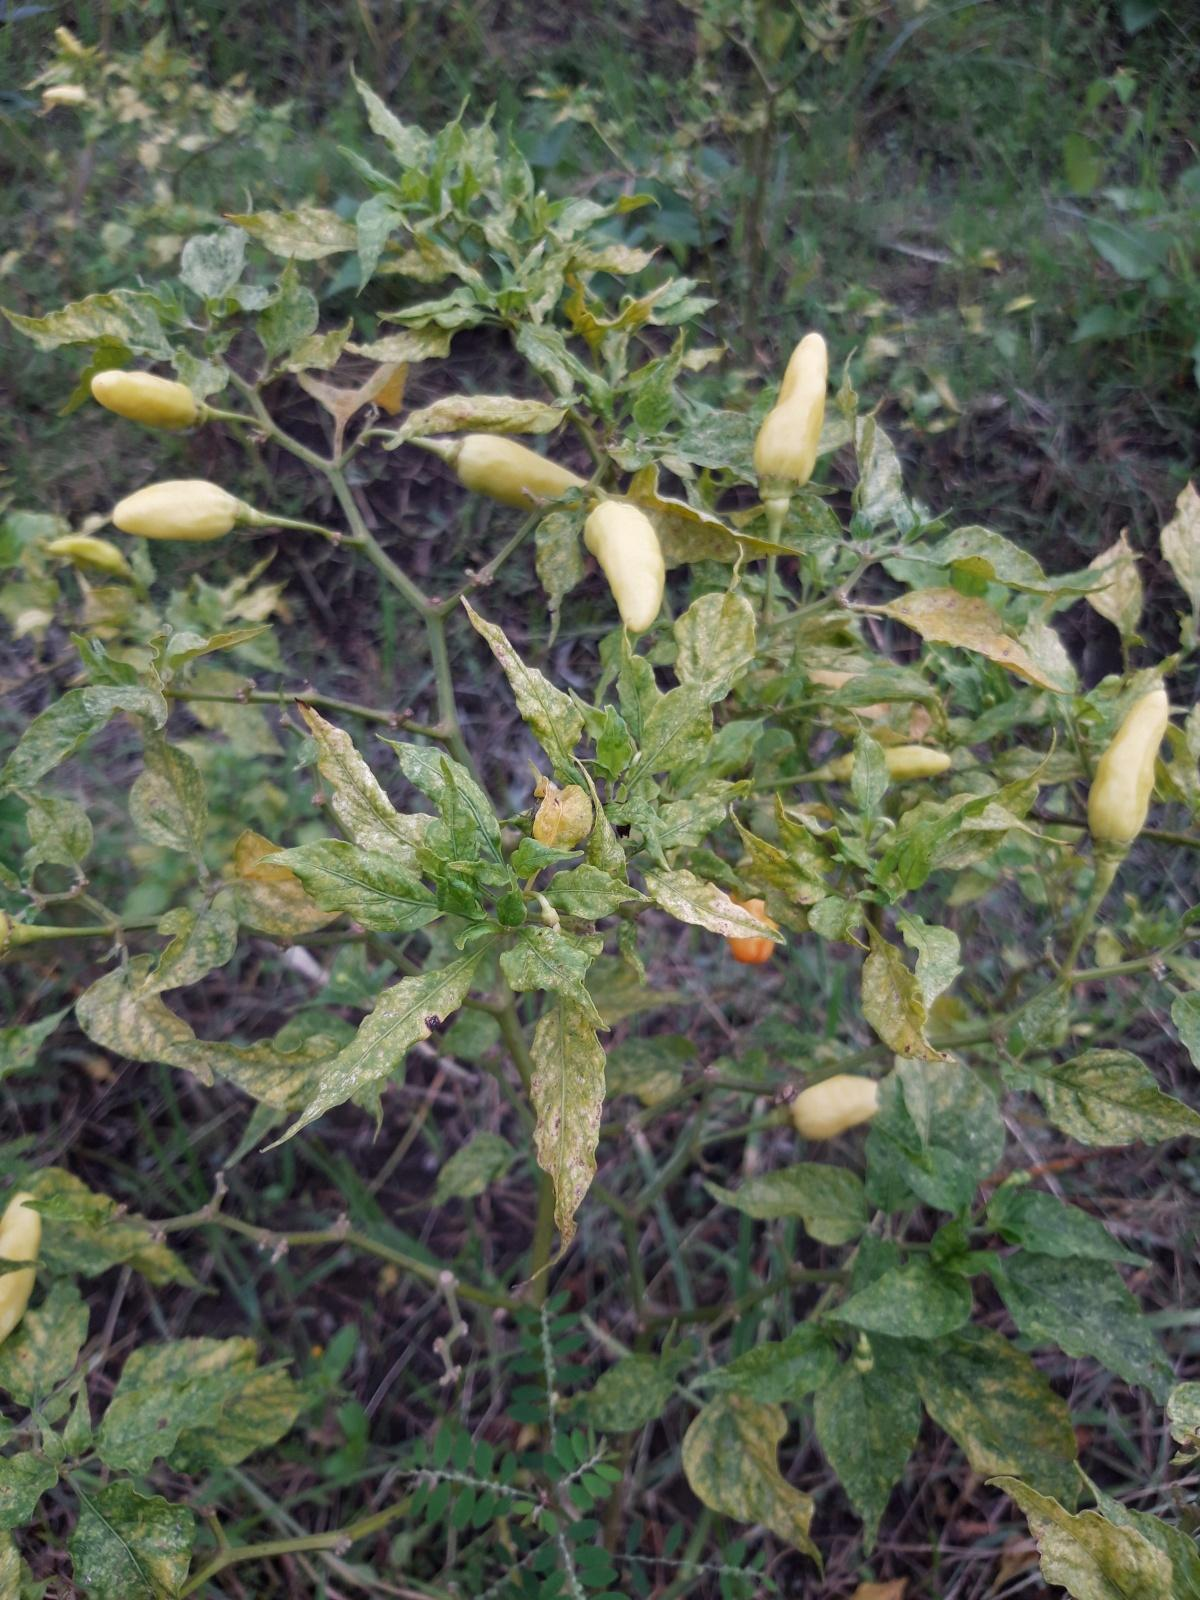cabai_normal: (1087, 690, 1170, 848), (753, 334, 828, 489), (455, 433, 605, 511), (584, 501, 666, 634), (111, 480, 247, 540), (91, 369, 200, 430), (790, 1076, 881, 1140), (824, 747, 952, 784)
